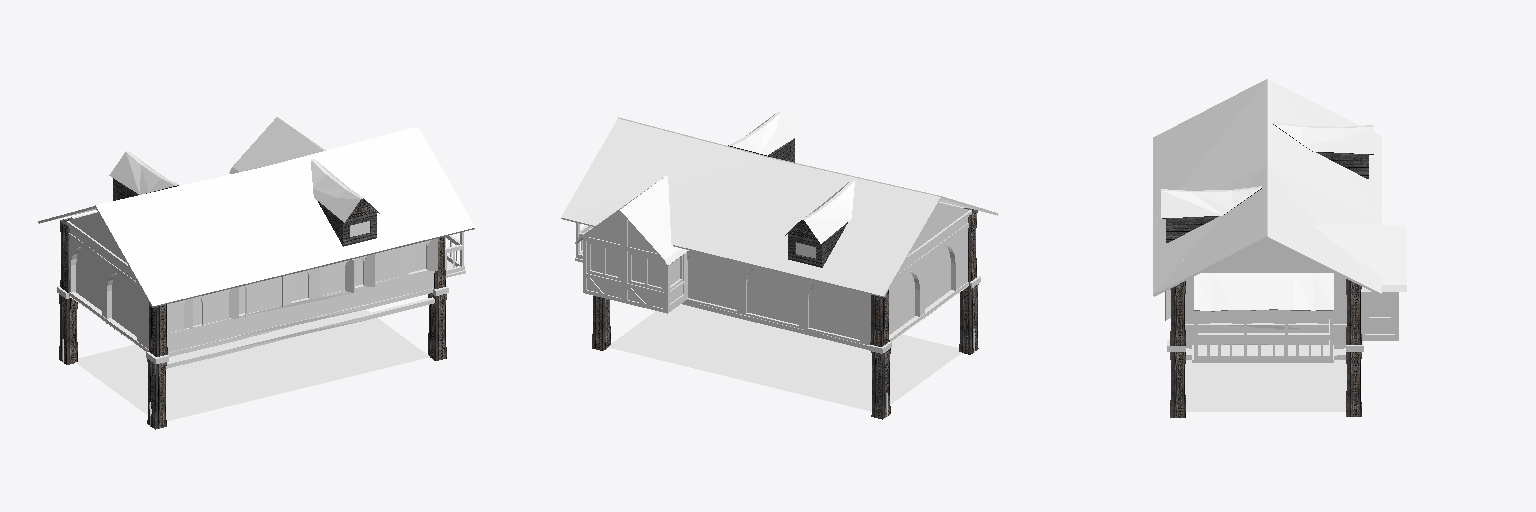
3 views of the same model, side by side, from view 1: azimuth 30°, elevation 25°; view 2: azimuth 150°, elevation 25°; view 3: azimuth 270°, elevation 25° (orthographic).
Parts seen in each view (by area): view 1: house; view 2: house; view 3: house.
Part boxes in pixels (left/top/right/bottom): house: left=38, top=117, right=475, bottom=429; house: left=561, top=112, right=997, bottom=419; house: left=1153, top=79, right=1406, bottom=417.
Bounding box in the file's own units: 26.61 × 14.65 × 17.58.
7 materials, 2 textured.